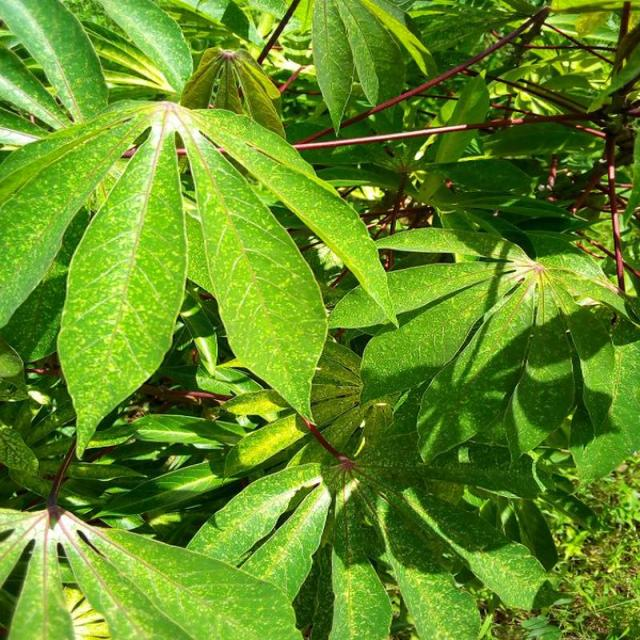cassava leaf: (0, 0, 638, 638), (357, 222, 638, 479), (55, 112, 188, 460), (180, 120, 329, 426)
